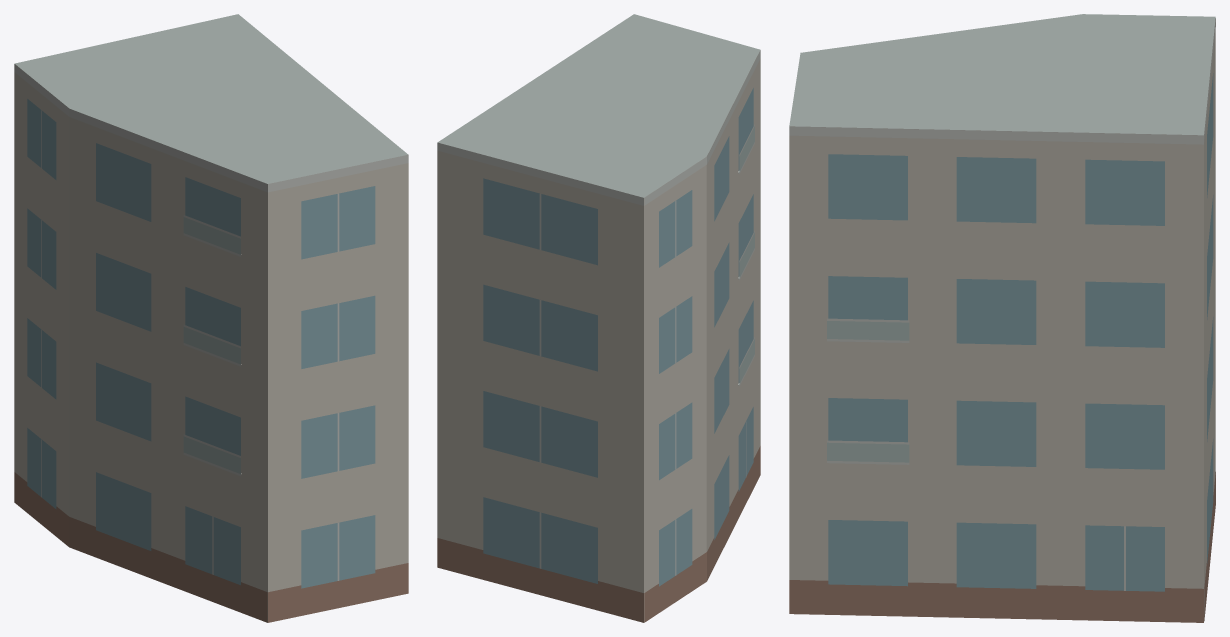
Rendered from survey-upis-32537071.glb.
3 views of the same model, side by side, from view 1: azimuth 30°, elevation 25°; view 2: azimuth 150°, elevation 25°; view 3: azimuth 270°, elevation 25° (orthographic). The views are drawn at different scales.
Visible parts, largest first — view 1: survey-upis-32537071.tmp; view 2: survey-upis-32537071.tmp; view 3: survey-upis-32537071.tmp.
Part boxes in pixels (x1,y1,x2,y2): survey-upis-32537071.tmp: (14,14,408,622); survey-upis-32537071.tmp: (437,14,760,622); survey-upis-32537071.tmp: (789,14,1215,622).
Size of the model in its own units: 6.84 by 12.8 by 10.16.
